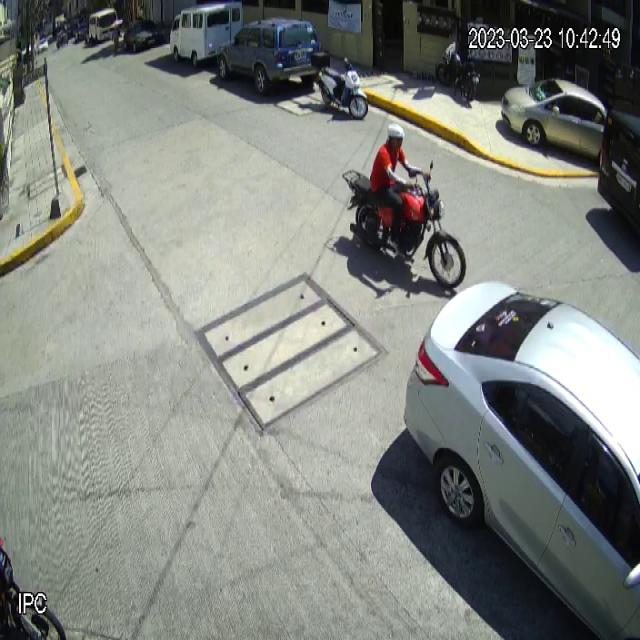Car: (401, 282, 640, 640), (500, 77, 605, 163), (216, 15, 322, 96)
Motorcycle: (342, 160, 466, 290), (312, 50, 368, 121)
Van: (169, 0, 245, 68)
